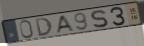0: (19, 19, 35, 40)
3: (109, 6, 126, 27)
9: (73, 12, 89, 31)
A: (55, 14, 75, 35)
D: (34, 17, 54, 37)
S: (89, 9, 109, 29)
